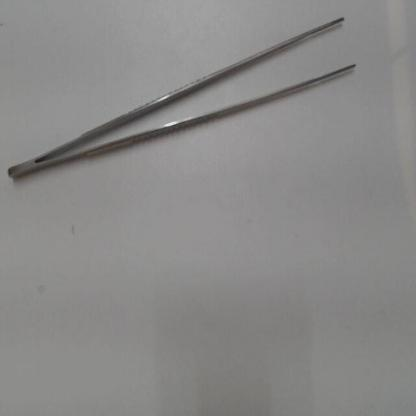DeBakey Dissector: (4, 5, 370, 192)
